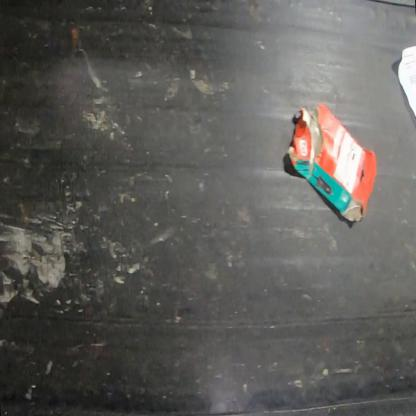cardboard: (286, 101, 376, 222)
